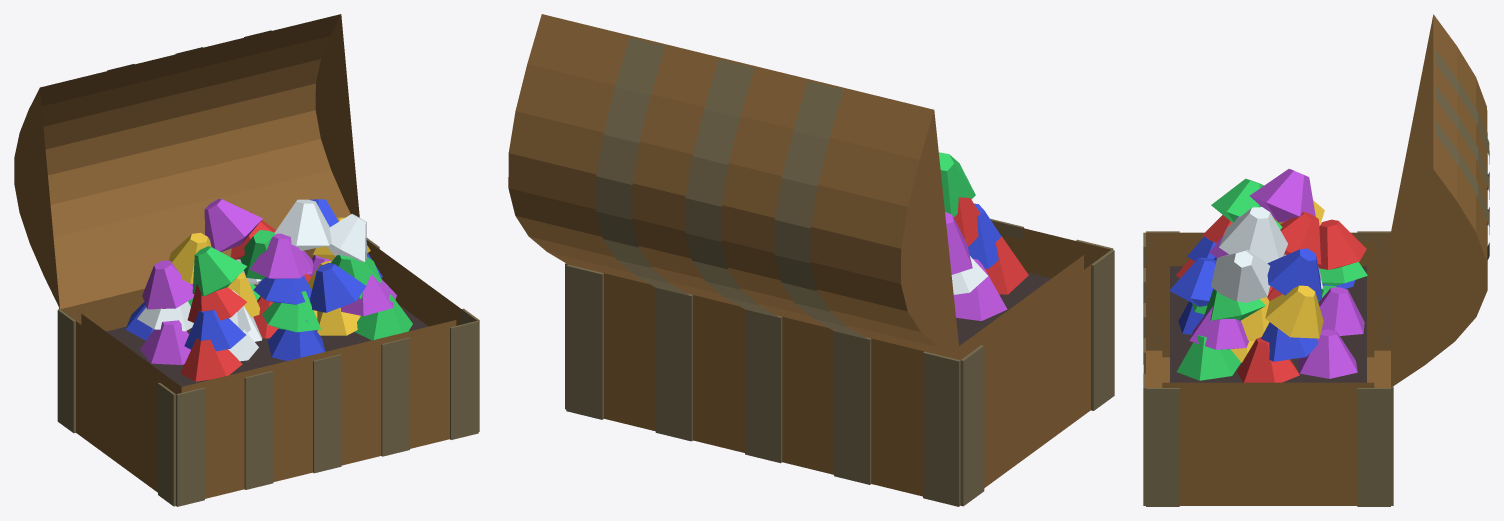
File: chest_open_gems.fbx
3 views of the same model, side by side, from view 1: azimuth 30°, elevation 25°; view 2: azimuth 150°, elevation 25°; view 3: azimuth 270°, elevation 25° (orthographic). The views are drawn at different scales.
Visible parts, largest first — view 1: Chest_Lid, Chest_Body, Chest_Interior, Band_0_Front, Corner_FL_Y, Corner_FR_Y, Band_2_Front, Band_1_Front, Gem_Mass, Corner_BL_X, Corner_FL_X, Gem_L5_00 (+21 smaller); view 2: Chest_Lid, Chest_Body, Band_1_Arch, Band_0_Arch, Band_2_Arch, Corner_BL_Y, Corner_BR_Y, Band_0_Back, Band_1_Back, Band_2_Back, Corner_BL_X, Chest_Interior (+9 smaller); view 3: Chest_Body, Chest_Lid, Corner_BR_X, Corner_FR_X, Chest_Interior, Gem_Mass, Gem_L5_01, Gem_L4_02, Gem_L3_05, Gem_L5_00, Gem_L1_09, Gem_L4_05 (+21 smaller).
Boxes of the visible parts, bbox=[...] form: Chest_Lid: bbox=[14, 14, 359, 309]; Chest_Body: bbox=[60, 240, 476, 498]; Chest_Interior: bbox=[81, 257, 456, 394]; Band_0_Front: bbox=[244, 371, 273, 489]; Corner_FL_Y: bbox=[176, 387, 204, 506]; Corner_FR_Y: bbox=[450, 321, 478, 439]; Band_2_Front: bbox=[381, 337, 409, 456]; Band_1_Front: bbox=[313, 354, 341, 473]; Gem_Mass: bbox=[106, 305, 428, 386]; Corner_BL_X: bbox=[57, 309, 75, 433]; Corner_FL_X: bbox=[158, 382, 175, 506]; Gem_L5_00: bbox=[204, 198, 262, 251]; Chest_Lid: bbox=[508, 14, 960, 360]; Chest_Body: bbox=[604, 220, 1110, 496]; Band_1_Arch: bbox=[685, 59, 779, 317]; Band_0_Arch: bbox=[774, 81, 869, 339]; Band_2_Arch: bbox=[596, 37, 690, 296]; Corner_BL_Y: bbox=[923, 351, 960, 506]; Corner_BR_Y: bbox=[566, 264, 603, 419]; Band_0_Back: bbox=[834, 331, 871, 484]; Band_1_Back: bbox=[745, 309, 782, 463]; Band_2_Back: bbox=[655, 288, 692, 441]; Corner_BL_X: bbox=[960, 345, 984, 506]; Chest_Interior: bbox=[959, 234, 1083, 359]; Chest_Body: bbox=[1146, 232, 1390, 505]; Chest_Lid: bbox=[1391, 14, 1487, 387]; Corner_BR_X: bbox=[1357, 388, 1390, 506]; Corner_FR_X: bbox=[1146, 388, 1179, 506]; Chest_Interior: bbox=[1162, 241, 1374, 387]; Gem_Mass: bbox=[1170, 266, 1366, 382]; Gem_L5_01: bbox=[1219, 207, 1287, 263]; Gem_L4_02: bbox=[1211, 249, 1270, 302]; Gem_L3_05: bbox=[1265, 285, 1323, 338]; Gem_L5_00: bbox=[1249, 169, 1315, 222]; Gem_L1_09: bbox=[1298, 329, 1357, 378]; Gem_L4_05: bbox=[1267, 248, 1321, 299].
Bounding box in the file's own units: 1003 × 999 × 932.
